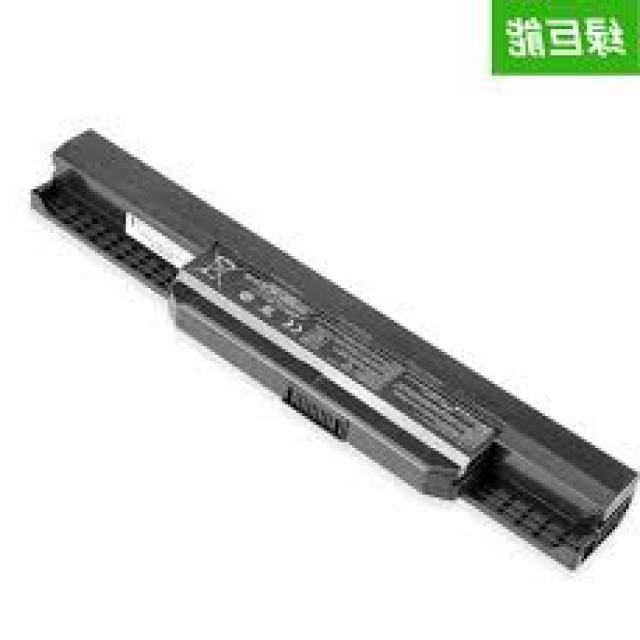battery: (24, 130, 640, 574)
